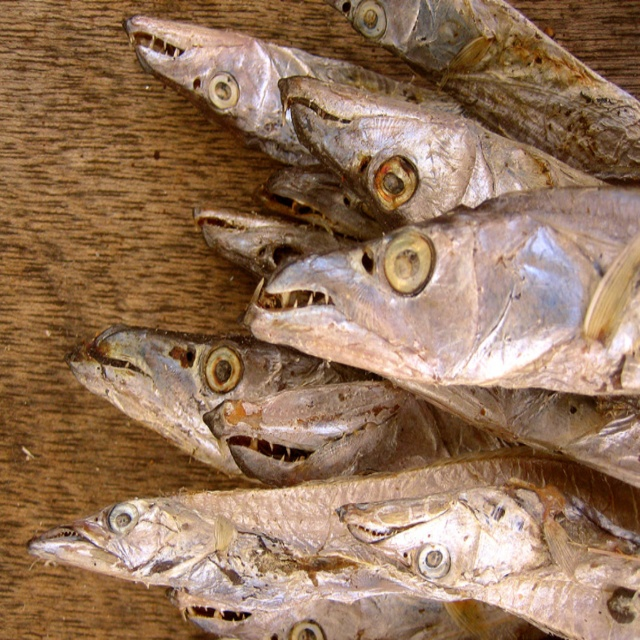Fish: (26, 0, 640, 640)
